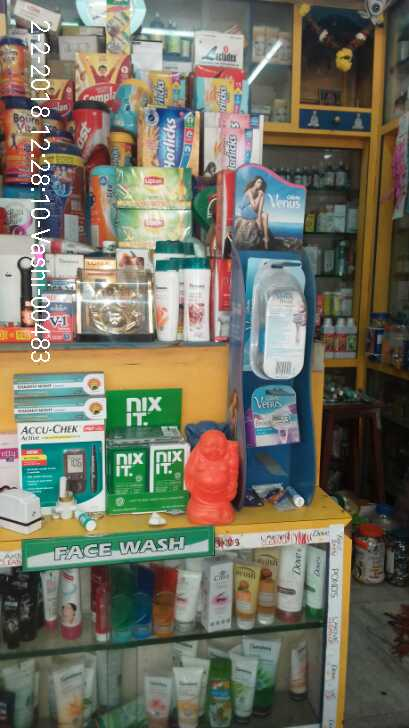venus: (254, 384, 304, 452)
